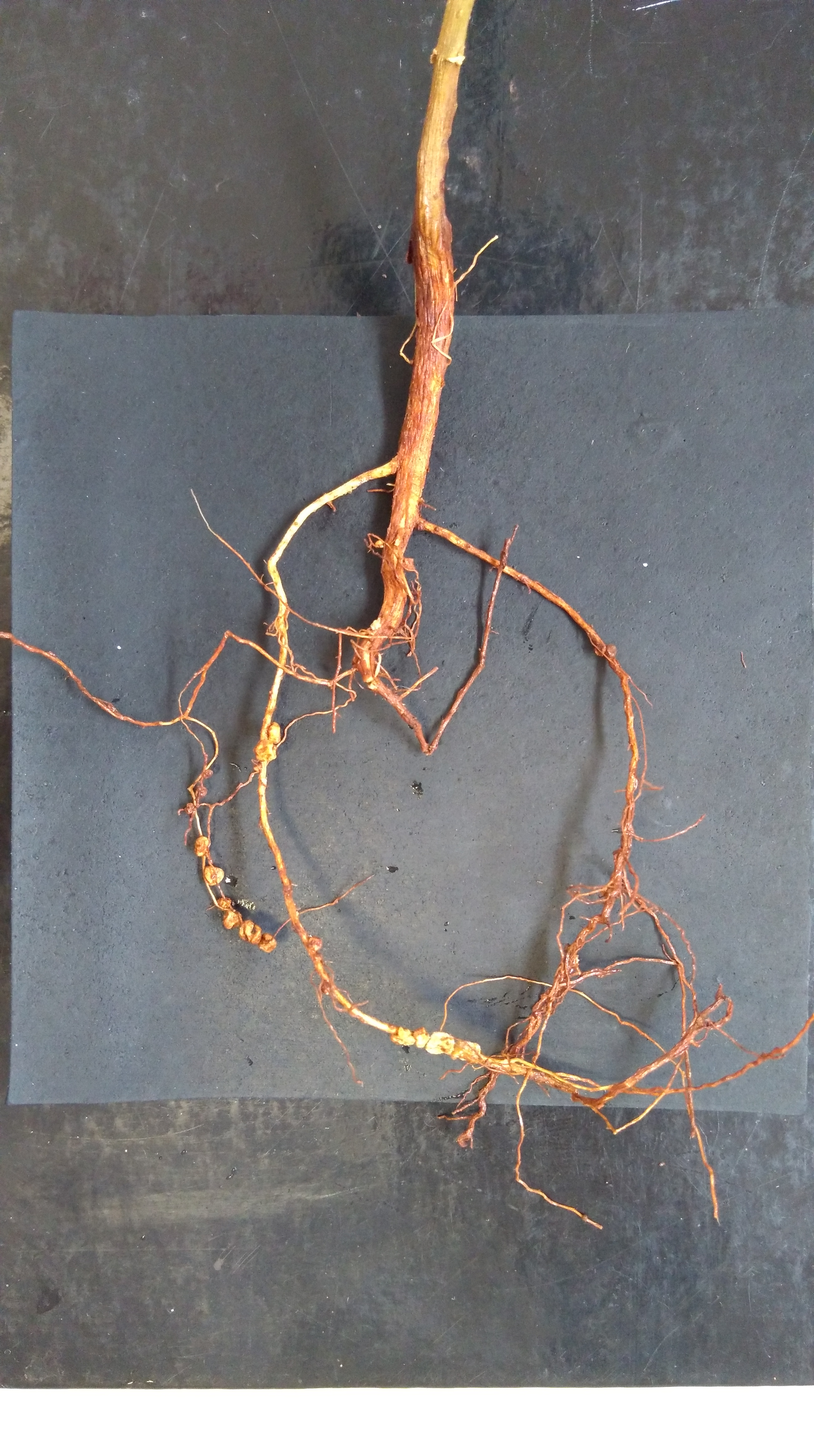nodule: (423, 1029, 455, 1056), (451, 1037, 482, 1064), (252, 739, 278, 764), (238, 919, 262, 945), (390, 1025, 415, 1047), (203, 864, 226, 886), (264, 719, 282, 745), (257, 932, 278, 954), (413, 1026, 431, 1050), (193, 835, 211, 858), (222, 909, 240, 930), (307, 934, 323, 953), (215, 895, 232, 911), (593, 643, 606, 657), (196, 784, 208, 798), (606, 643, 617, 656), (184, 801, 194, 815), (321, 981, 331, 995), (203, 768, 214, 779), (375, 539, 383, 548)
